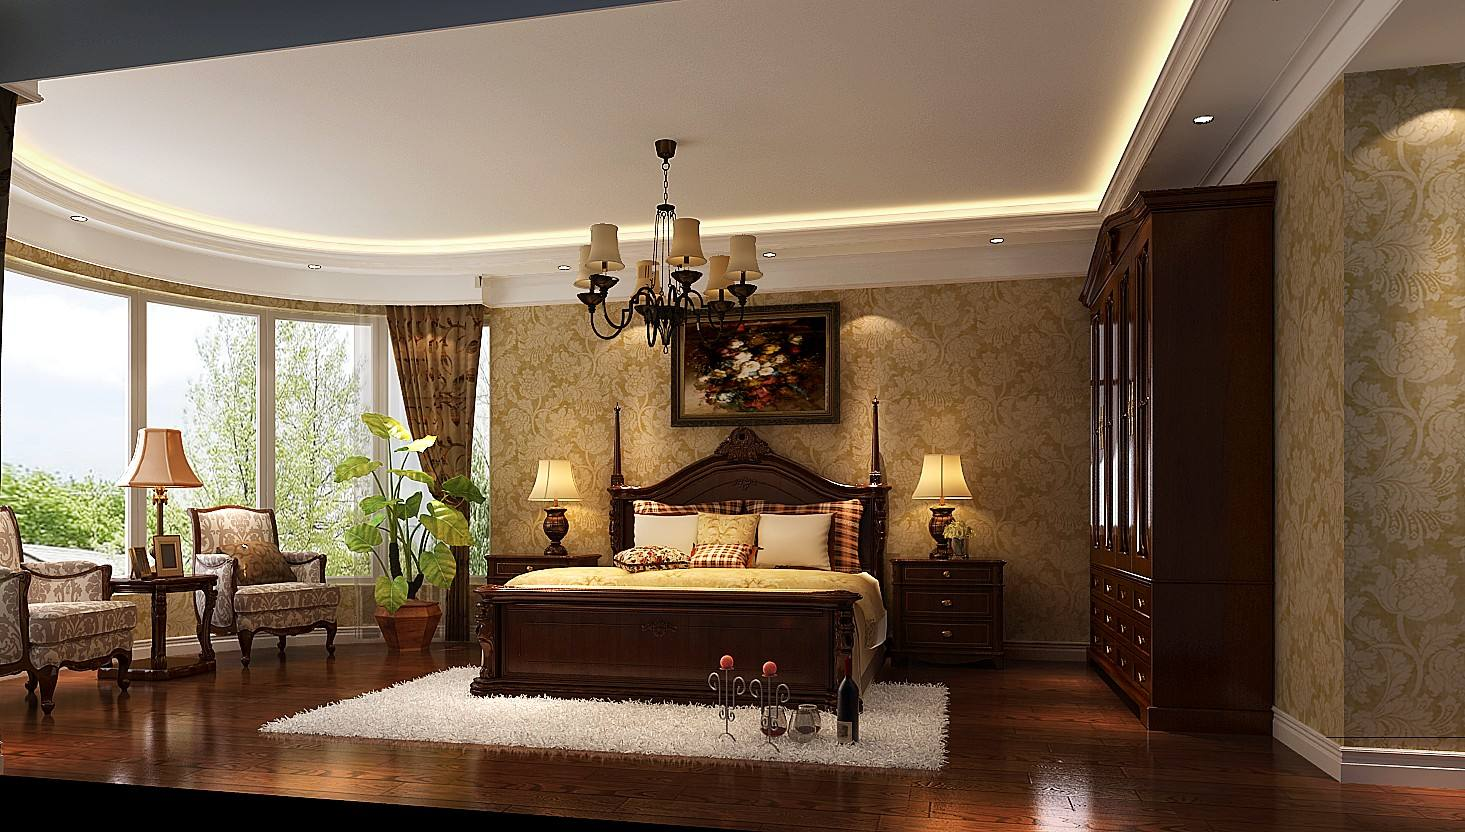床: (493, 555, 869, 716)
枕头: (627, 501, 854, 579)
灯: (572, 138, 760, 348), (117, 427, 203, 581), (914, 453, 978, 568), (525, 457, 585, 564), (1192, 114, 1224, 134), (759, 249, 786, 271), (296, 260, 323, 279), (988, 236, 1015, 254), (61, 215, 85, 230)
